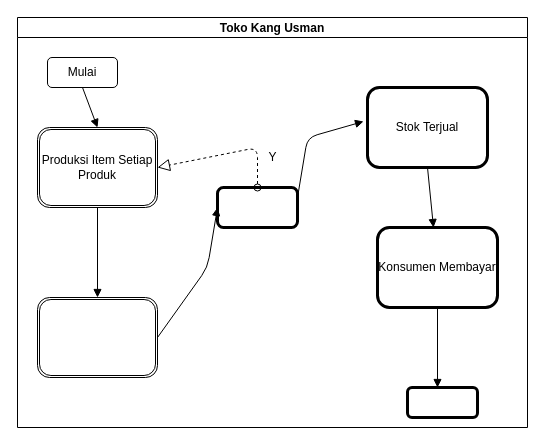
The diagram is 545 pixels wide and 445 high, and some of its shapes have lost their labels. Here are the shapes that lost their labels. From the top down, the box of each, then its label:
(216, 186, 298, 228): Stok Tresedia
(36, 296, 158, 378): Barang Didisplay/Dipajang Di Toko
(406, 386, 478, 418): Selesai
